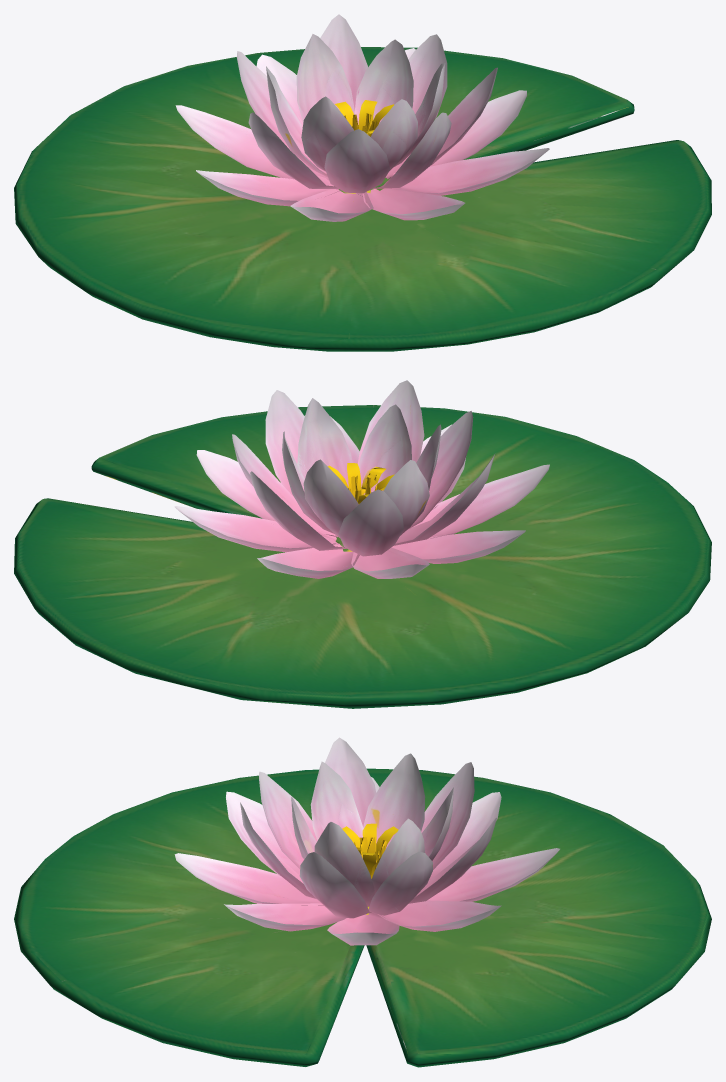
The model's file is LilyFlower.glb.
3 views of the same model, one above another, from view 1: azimuth 30°, elevation 25°; view 2: azimuth 150°, elevation 25°; view 3: azimuth 270°, elevation 25° (orthographic).
Bounding box in the file's own units: 0.9438 × 0.209 × 0.959.
Materials: 1 (1 with a texture image).
